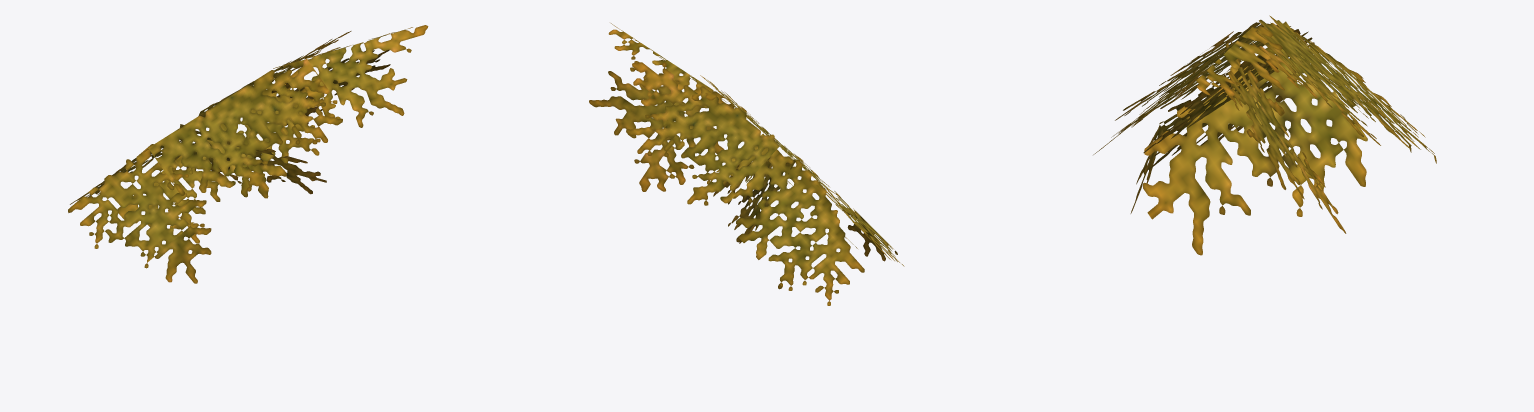
File: larch_leaves_2.obj
The picture shows the model from 3 angles, left to right: view 1: azimuth 30°, elevation 25°; view 2: azimuth 150°, elevation 25°; view 3: azimuth 270°, elevation 25°; orthographic projection. The views are drawn at different scales.
Visible parts, largest first — view 1: plane, cube; view 2: cube, plane; view 3: cube, plane.
Part boxes in pixels (left/top/right/bottom): plane: left=68, top=25, right=428, bottom=283; cube: left=148, top=31, right=390, bottom=195; cube: left=589, top=61, right=840, bottom=243; plane: left=608, top=23, right=904, bottom=305; cube: left=1115, top=15, right=1410, bottom=255; plane: left=1093, top=22, right=1436, bottom=213.
Size of the model in its own units: 3.84 by 2.47 by 2.31.
